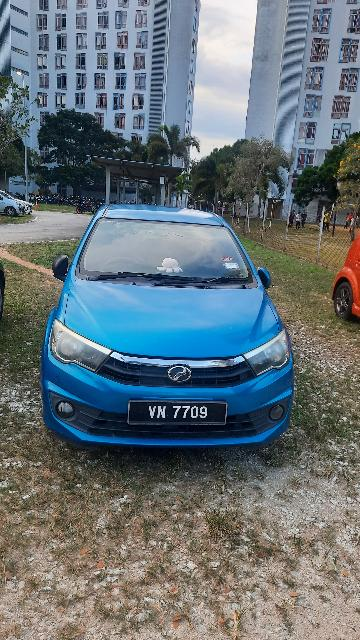License_Plate: (124, 399, 234, 432)
car: (37, 199, 311, 458)
